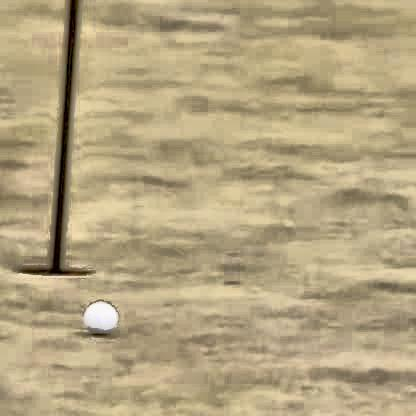golfball: (83, 295, 114, 331)
